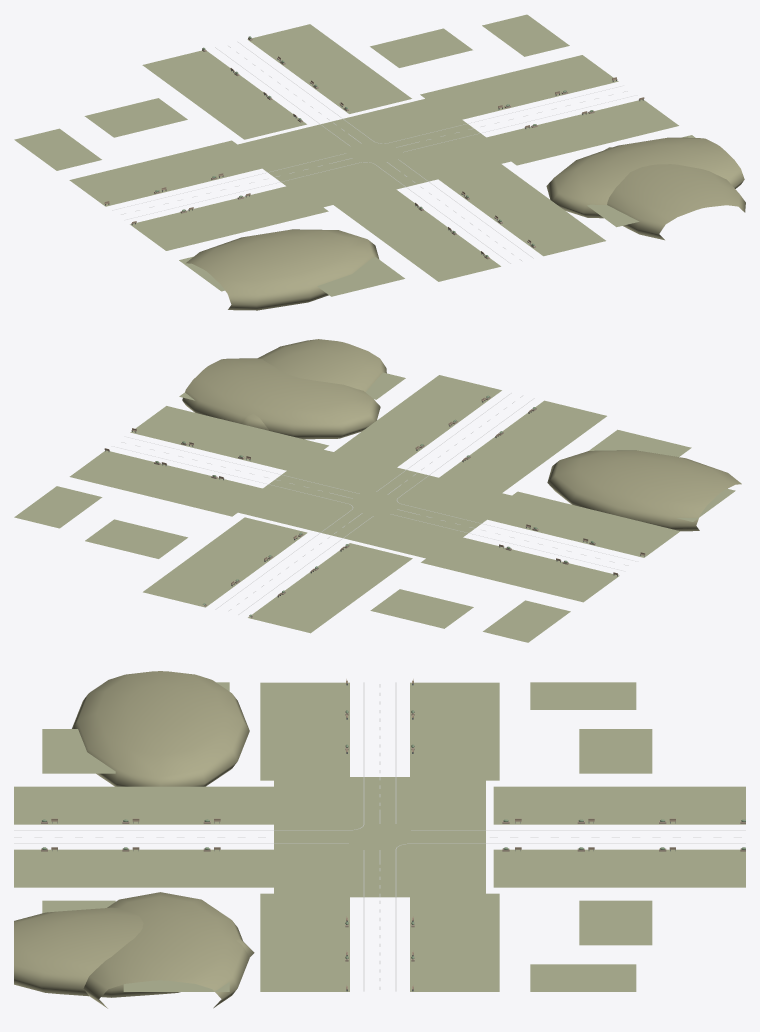
3 renders of one model, top to bottom at view 1: azimuth 30°, elevation 25°; view 2: azimuth 150°, elevation 25°; view 3: azimuth 270°, elevation 25°, orthographic. The views are drawn at different scales.
Parts seen in each view (by area): view 1: static; view 2: static; view 3: static.
Part boxes in pixels (x1,y1,x2,y2): static: [14, 14, 745, 310]; static: [14, 339, 741, 642]; static: [14, 671, 745, 1008].
Size of what is drawn, in the model's own units: 180 by 14.08 by 180.
